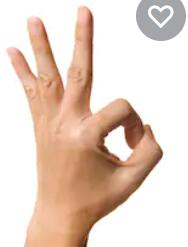left: (1, 4, 166, 222)
